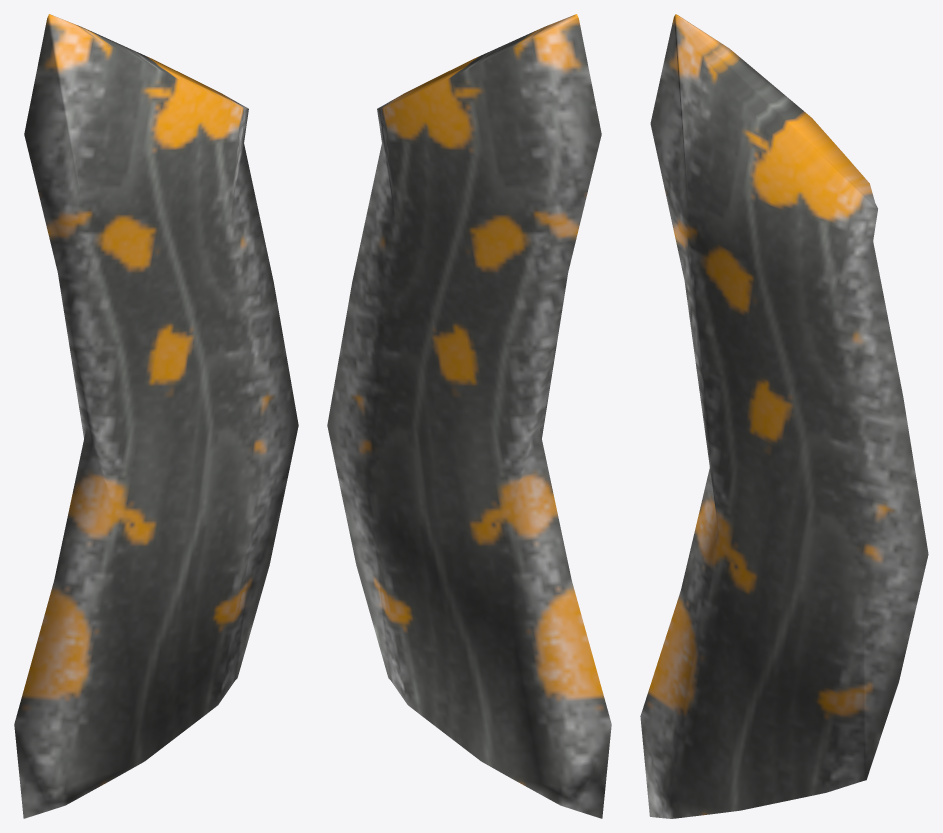
The model's file is Keris_tatarapang3.fbx.
3 views of the same model, side by side, from view 1: azimuth 30°, elevation 25°; view 2: azimuth 150°, elevation 25°; view 3: azimuth 330°, elevation 25° (orthographic).
Parts seen in each view (by area): view 1: blade-lp.001_Material-Bilah_0.002; view 2: blade-lp.001_Material-Bilah_0.002; view 3: blade-lp.001_Material-Bilah_0.002.
Part boxes in pixels (x1,y1,x2,y2): blade-lp.001_Material-Bilah_0.002: [14, 14, 298, 818]; blade-lp.001_Material-Bilah_0.002: [327, 14, 611, 818]; blade-lp.001_Material-Bilah_0.002: [640, 14, 928, 818].
Size of the model in its own units: 7.95 by 21.33 by 1.54.
Materials: 1 (1 with a texture image).
